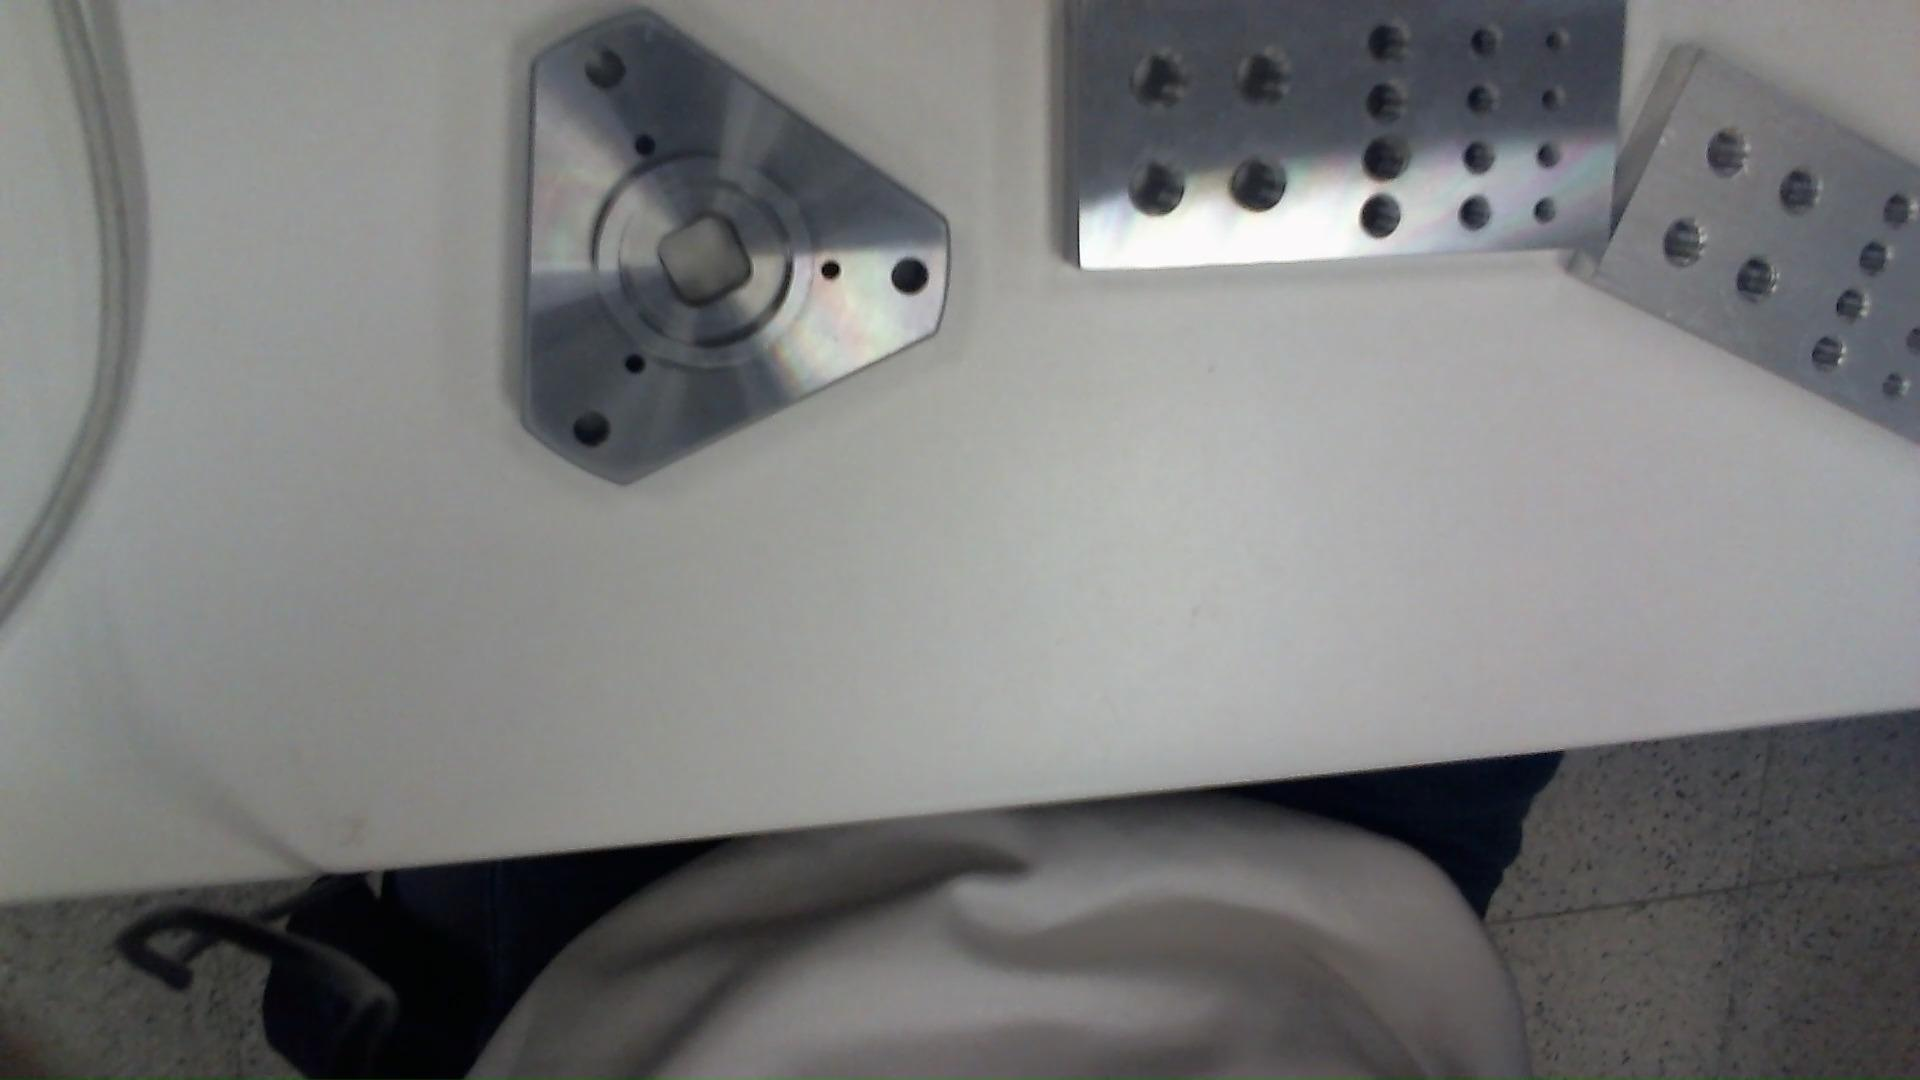hole: (1226, 38, 1292, 116), (1222, 154, 1292, 223), (1127, 161, 1192, 235), (1126, 45, 1192, 115), (1698, 121, 1758, 190), (1656, 212, 1712, 284), (570, 46, 630, 98), (1360, 21, 1417, 74), (1733, 248, 1791, 300), (1360, 136, 1415, 188), (880, 253, 932, 306), (1776, 167, 1822, 223), (572, 407, 618, 462), (1358, 189, 1406, 241), (1807, 325, 1850, 380), (1359, 81, 1409, 128), (1460, 138, 1504, 182), (1461, 22, 1509, 62), (1877, 366, 1920, 410), (1457, 194, 1500, 237), (1856, 237, 1895, 284), (1459, 81, 1501, 121), (1834, 283, 1873, 326), (1878, 193, 1917, 231), (1541, 21, 1574, 61), (616, 352, 652, 383), (1530, 193, 1559, 230), (1534, 144, 1566, 177), (1537, 86, 1564, 125), (626, 129, 656, 161), (820, 251, 850, 282)
